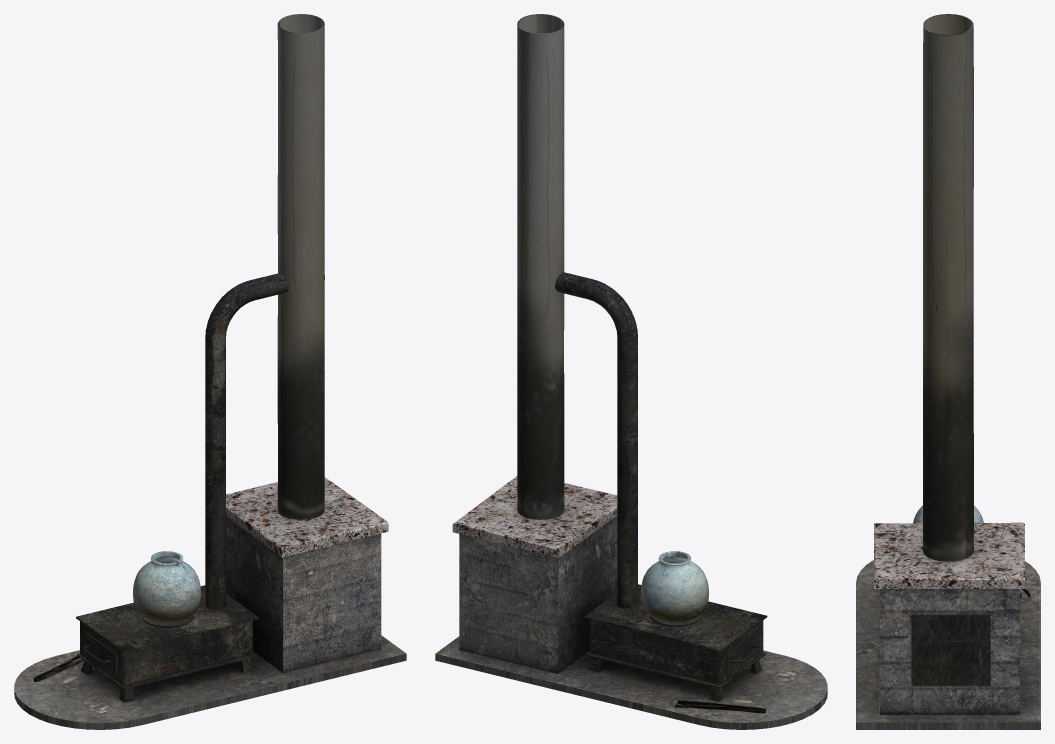
The model's file is Tandoori Thre.fbx.
3 views of the same model, side by side, from view 1: azimuth 30°, elevation 25°; view 2: azimuth 150°, elevation 25°; view 3: azimuth 270°, elevation 25° (orthographic). The views are drawn at different scales.
Visible parts, largest first — view 1: Camino1; view 2: Camino1; view 3: Camino1.
Boxes of the visible parts, bbox=[...] form: Camino1: bbox=[14, 14, 406, 729]; Camino1: bbox=[435, 14, 827, 729]; Camino1: bbox=[856, 14, 1040, 729].
Bounding box in the file's own units: 75.44 × 132 × 33.
Materials: 2 (2 with a texture image).
